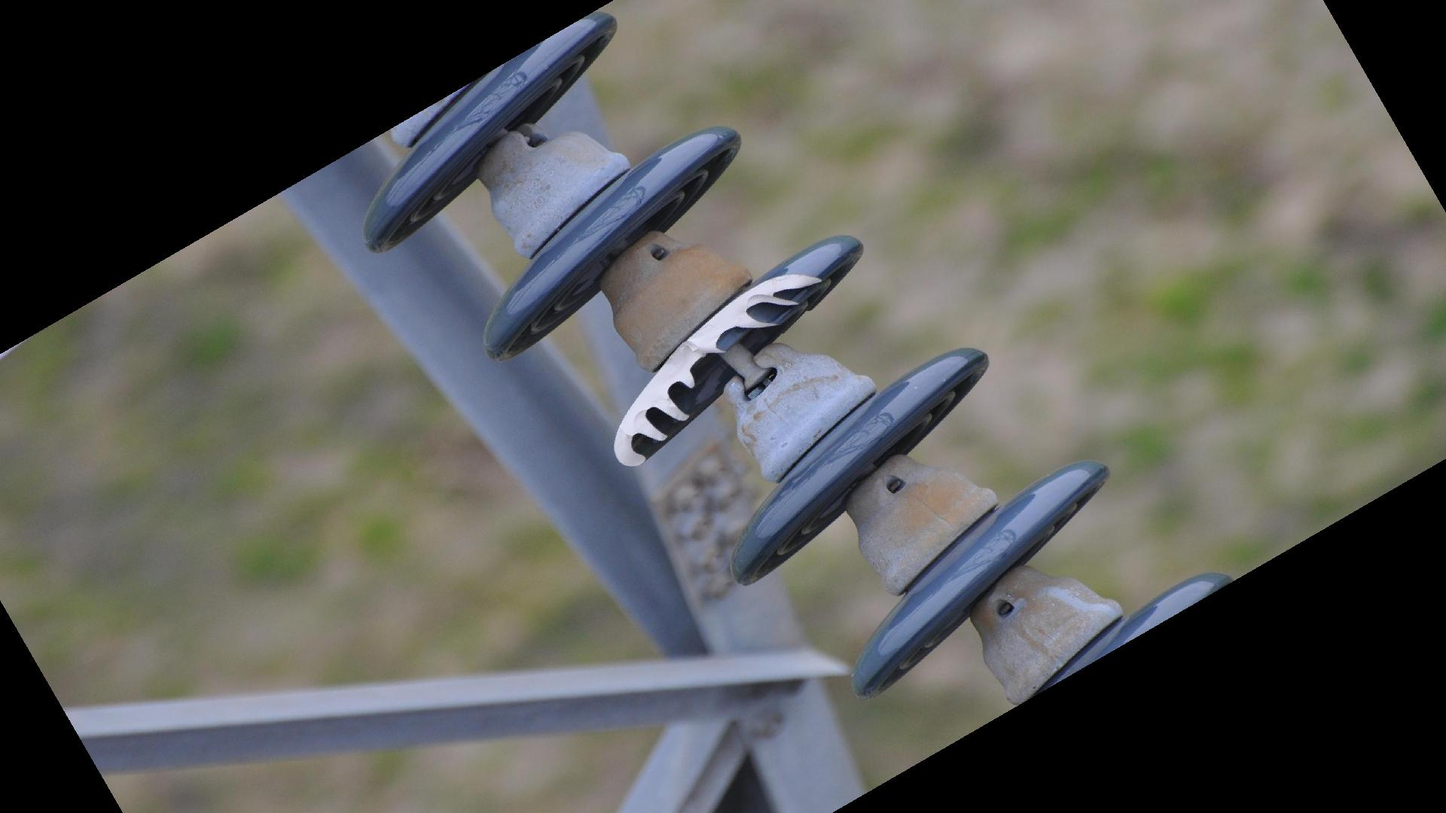insulator: (354, 1, 1239, 728)
insulator_breakage: (606, 263, 831, 471)
